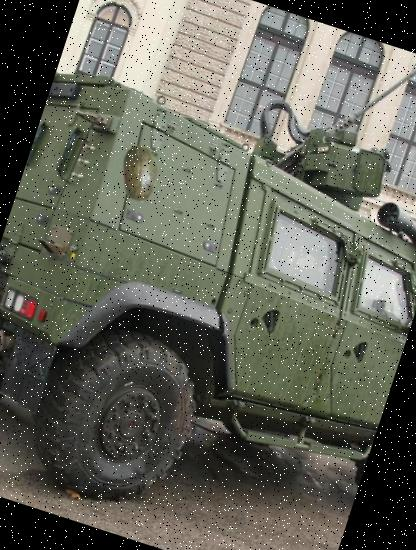Melon: (105, 138, 176, 209)
